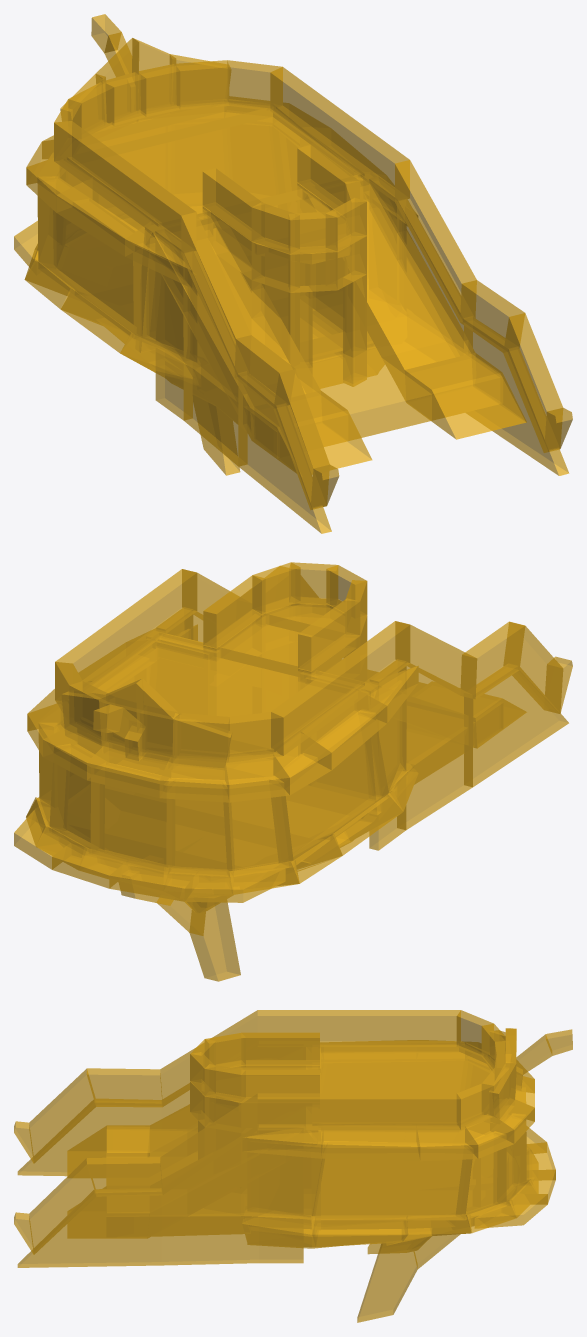
Rendered from SM_Veh_Ship_M_Back_02_Collision.fbx.
3 views of the same model, one above another, from view 1: azimuth 30°, elevation 25°; view 2: azimuth 150°, elevation 25°; view 3: azimuth 270°, elevation 25° (orthographic). The views are drawn at different scales.
Parts seen in each view (by area): view 1: SM_Veh_Ship_M_Back_02_Collision; view 2: SM_Veh_Ship_M_Back_02_Collision; view 3: SM_Veh_Ship_M_Back_02_Collision.
Boxes of the visible parts, left/top/right/bottom form: SM_Veh_Ship_M_Back_02_Collision: left=14, top=14, right=572, bottom=533; SM_Veh_Ship_M_Back_02_Collision: left=14, top=562, right=572, bottom=981; SM_Veh_Ship_M_Back_02_Collision: left=14, top=1010, right=572, bottom=1322.
Size of the model in its own units: 795 by 977 by 1699.
